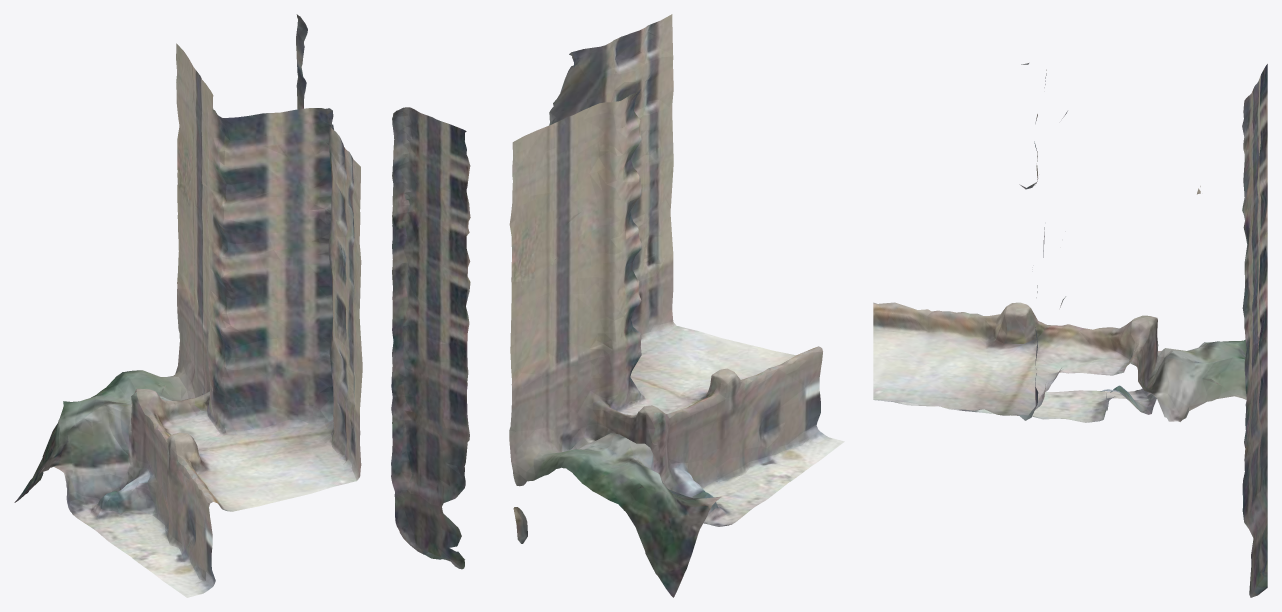
The model's file is Tile_+001_+004_L22_00023200.glb.
3 views of the same model, side by side, from view 1: azimuth 30°, elevation 25°; view 2: azimuth 150°, elevation 25°; view 3: azimuth 270°, elevation 25° (orthographic). The views are drawn at different scales.
Parts seen in each view (by area): view 1: rtc; view 2: rtc; view 3: rtc.
Part boxes in pixels (box(x1,y1,x2,y2)): rtc: box(14, 14, 362, 597); rtc: box(391, 14, 844, 597); rtc: box(873, 63, 1267, 597).
Bounding box in the file's own units: 12.04 × 17.77 × 12.56.
1 material, 1 textured.
